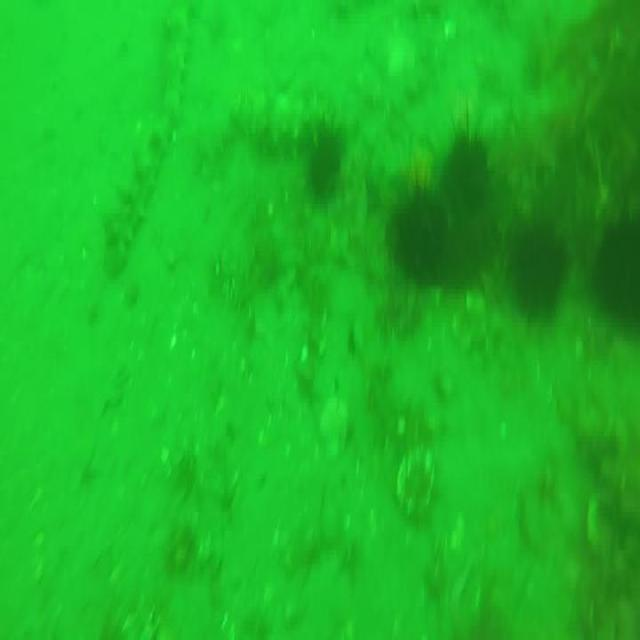echinus: (508, 218, 578, 324), (389, 182, 455, 280), (592, 218, 640, 332), (445, 125, 495, 207), (310, 130, 350, 198)
holothurian: (104, 8, 188, 281), (226, 82, 332, 153)
scallop: (398, 454, 438, 518), (585, 499, 619, 574), (319, 402, 354, 454)
